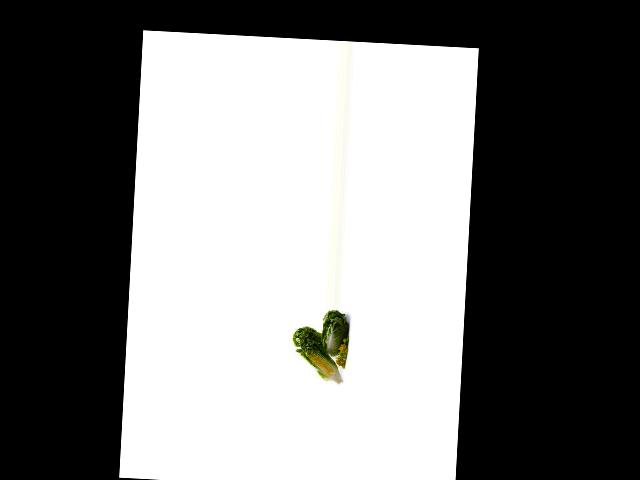lettuce: (318, 310, 352, 362)
